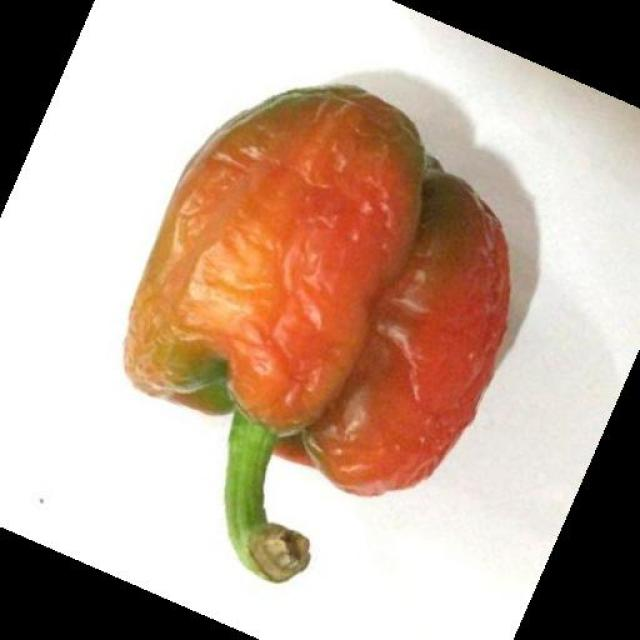Stale_Capsicum: (128, 64, 516, 576)
